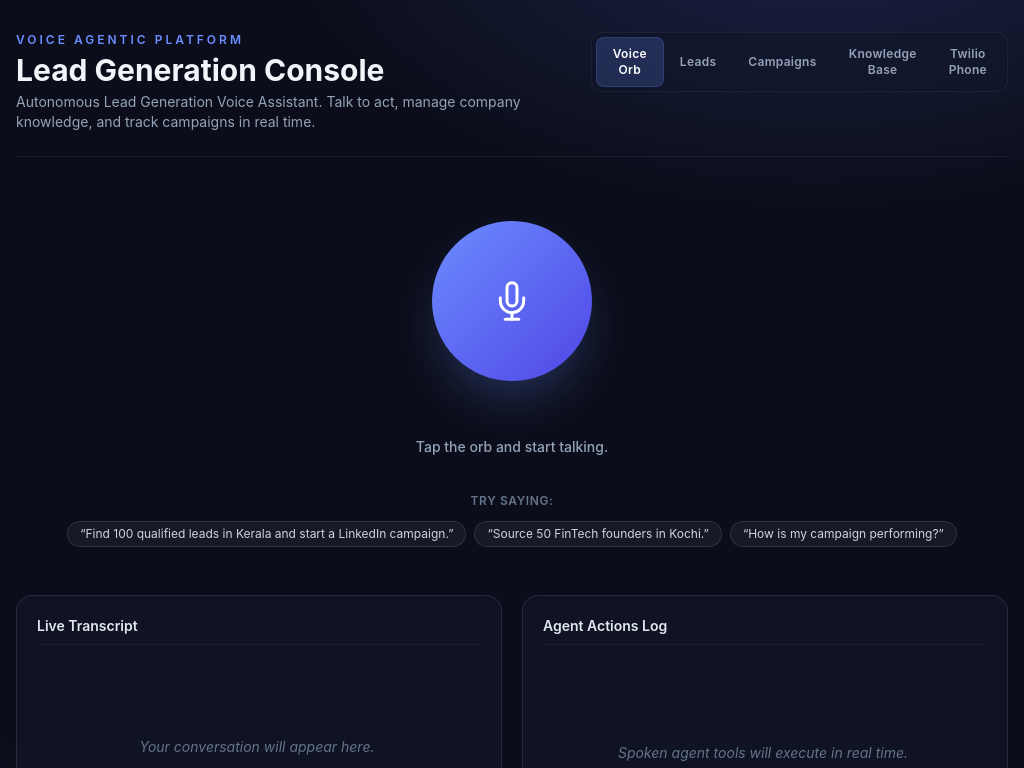
Test: VoiceConsole › clicking start button changes state
Click the button named "Start conversation" at (512, 301), box [432,221,592,381]
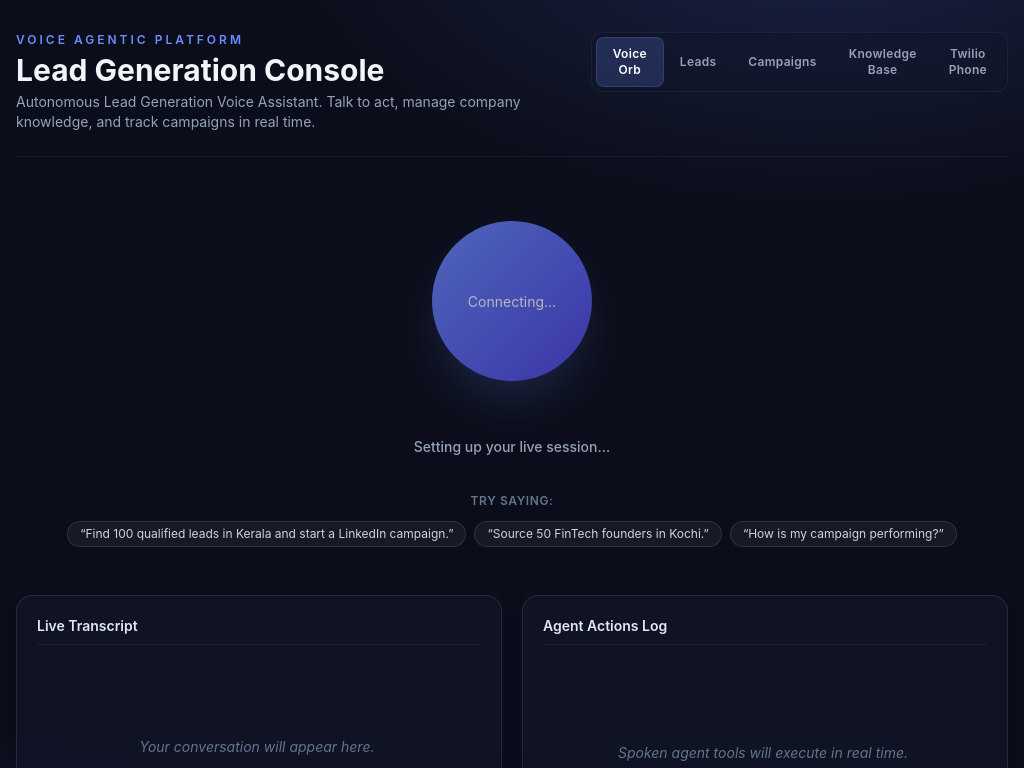
Now the text "Tap the orb and start talking." is gone
